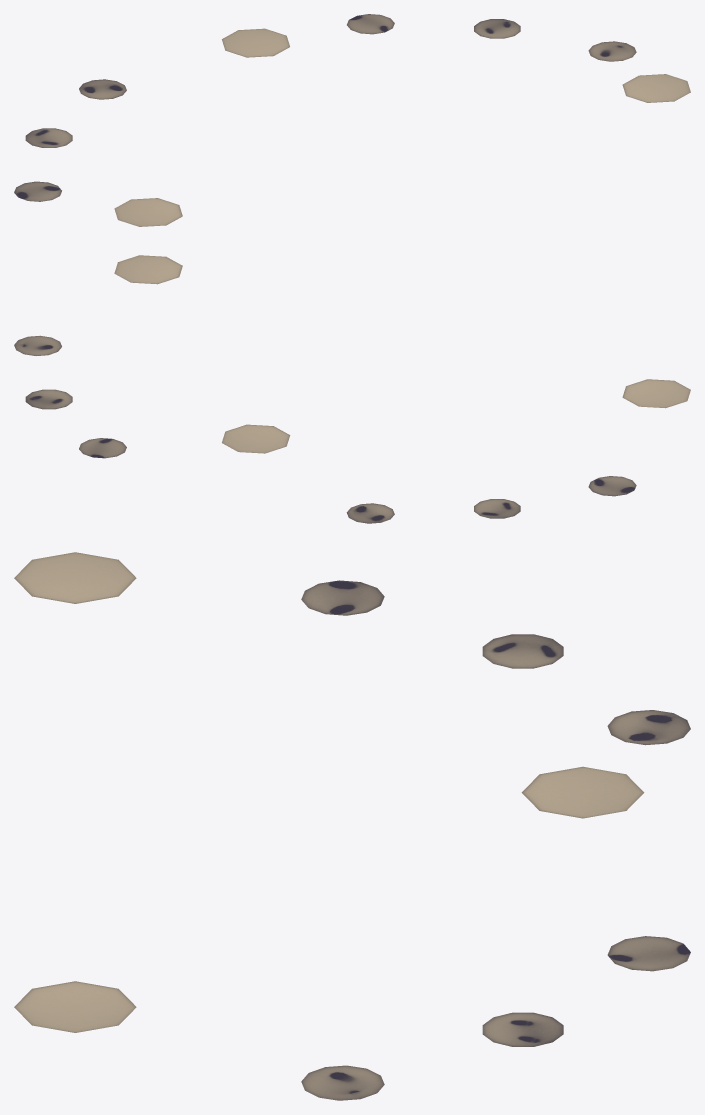
The model's file is Ground_02.FBX.
The picture shows the model from 3 angles, top to bottom: view 1: azimuth 30°, elevation 25°; view 2: azimuth 150°, elevation 25°; view 3: azimuth 270°, elevation 25°; orthographic projection. The views are drawn at different scales.
Parts seen in each view (by area): view 1: Ground_02; view 2: Ground_02; view 3: Ground_02.
Part boxes in pixels (x1,y1,x2,y2): Ground_02: [14, 14, 690, 226]; Ground_02: [14, 255, 690, 523]; Ground_02: [14, 552, 690, 1100].
Bounding box in the file's own units: 32.5 × 1.4 × 17.87.
